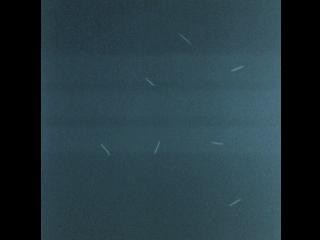scratch: (175, 30, 197, 51), (142, 73, 159, 89), (225, 193, 244, 207), (229, 62, 249, 75), (99, 142, 112, 157), (151, 139, 162, 155), (207, 139, 225, 147)
